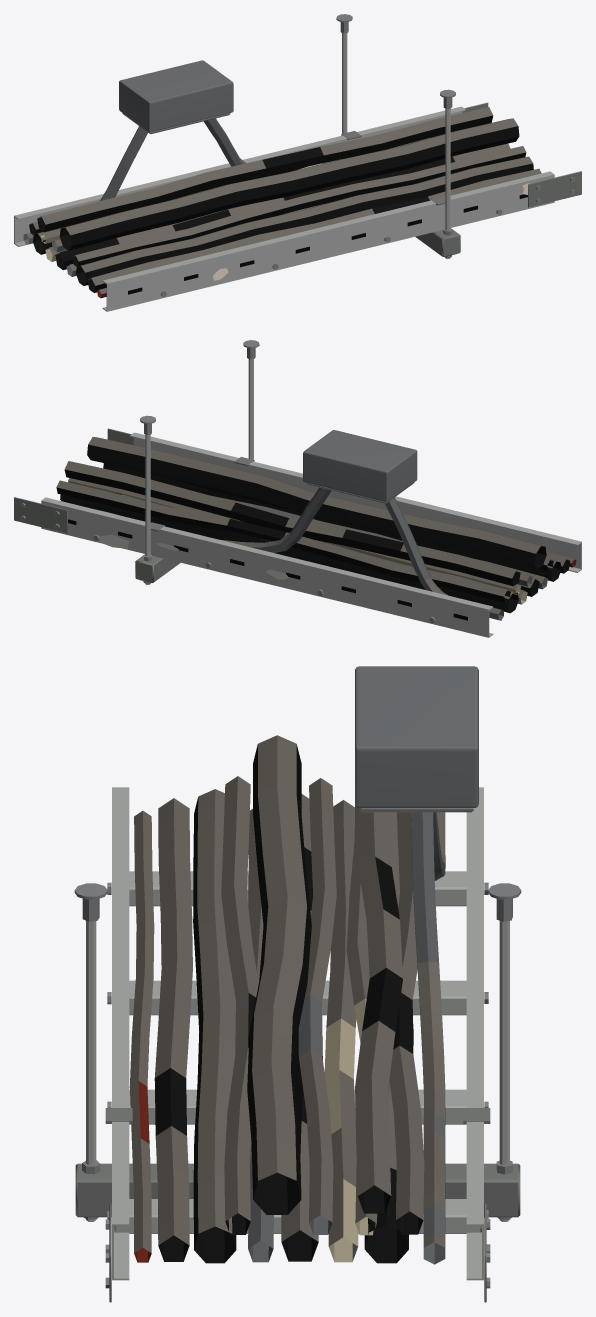
File: cable_tray@3.glb
3 views of the same model, one above another, from view 1: azimuth 30°, elevation 25°; view 2: azimuth 150°, elevation 25°; view 3: azimuth 270°, elevation 25° (orthographic). The views are drawn at different scales.
Parts seen in each view (by area): view 1: teil.006, teil.008, teil, teil.011, teil.003, teil.009, teil.002, teil.001; view 2: teil.008, teil, teil.006, teil.011, teil.009, teil.003, teil.010, teil.002, teil.004, teil.001; view 3: teil.006, teil, teil.008, teil.011, teil.009, teil.003, teil.010, teil.002.
Part boxes in pixels (box(x1,y1,x2,y2)): teil.006: box(26, 107, 541, 294); teil.008: box(29, 115, 533, 292); teil: box(14, 33, 554, 311); teil.011: box(119, 60, 233, 134); teil.003: box(341, 102, 581, 256); teil.009: box(23, 118, 283, 276); teil.002: box(160, 14, 575, 296); teil.001: box(128, 194, 527, 294); teil.008: box(56, 444, 570, 613); teil: box(41, 359, 581, 637); teil.006: box(56, 437, 575, 614); teil.011: box(303, 430, 417, 503); teil.009: box(151, 479, 547, 620); teil.003: box(14, 428, 254, 582); teil.010: box(68, 481, 527, 604); teil.002: box(20, 340, 435, 623); teil.004: box(97, 534, 288, 579); teil.001: box(68, 519, 467, 620); teil.006: box(129, 735, 445, 1252); teil: box(86, 787, 509, 1280); teil.008: box(154, 744, 423, 1263); teil.011: box(355, 666, 478, 812); teil.009: box(248, 812, 445, 1264); teil.003: box(75, 1108, 520, 1302); teil.010: box(324, 998, 376, 1262); teil.002: box(74, 882, 521, 1288).
Size of the model in its own units: 1.06 by 0.352 by 0.432.
